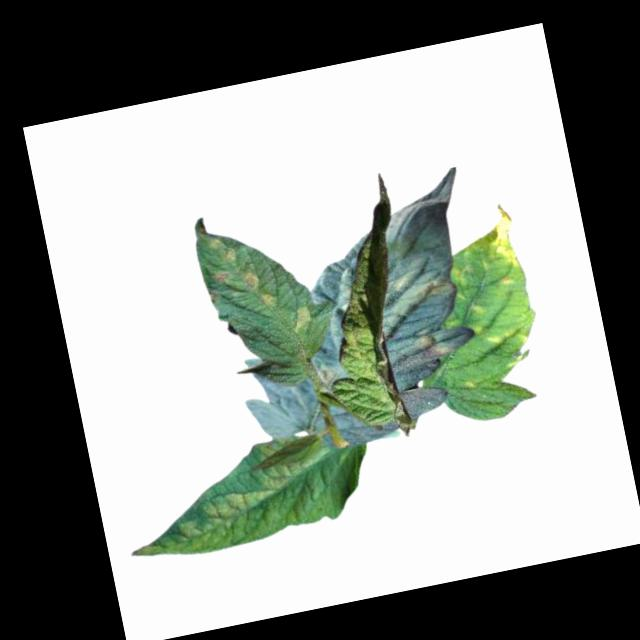Leaf_Mold: (119, 458, 317, 568), (372, 265, 463, 340), (462, 203, 524, 274), (391, 329, 456, 381), (484, 314, 536, 356), (242, 265, 279, 313), (291, 300, 314, 334), (318, 362, 342, 388)
